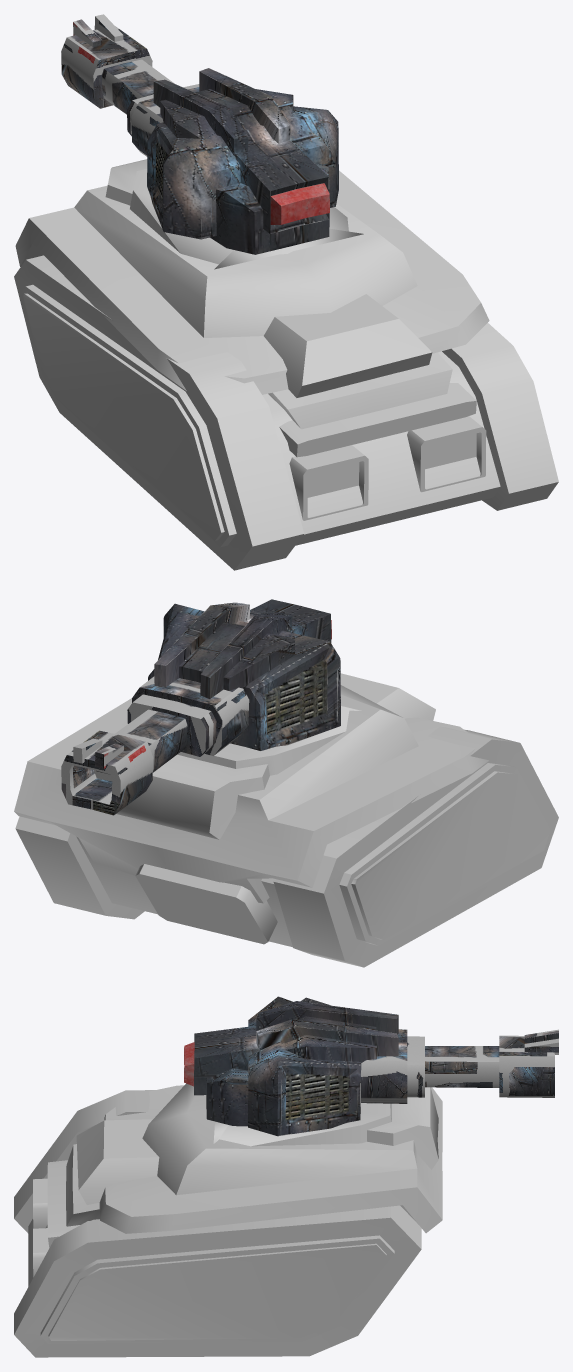
The model's file is Player_Tank4.FBX.
The picture shows the model from 3 angles, top to bottom: view 1: azimuth 30°, elevation 25°; view 2: azimuth 150°, elevation 25°; view 3: azimuth 270°, elevation 25°; orthographic projection. The views are drawn at different scales.
Visible parts, largest first — view 1: Tank_Hull, Left_Track, Turret, Right_Track, Gun_Barrel; view 2: Tank_Hull, Left_Track, Turret, Gun_Barrel, Right_Track; view 3: Right_Track, Tank_Hull, Turret, Gun_Barrel, Left_Track.
Part boxes in pixels (x1,y1,x2,y2): Tank_Hull: [15, 159, 500, 545]; Left_Track: [14, 255, 304, 570]; Turret: [147, 68, 338, 254]; Right_Track: [442, 323, 558, 510]; Gun_Barrel: [61, 14, 199, 156]; Tank_Hull: [14, 673, 488, 947]; Left_Track: [273, 726, 558, 967]; Turret: [148, 599, 340, 750]; Gun_Barrel: [61, 676, 249, 815]; Right_Track: [15, 816, 144, 919]; Right_Track: [14, 1205, 421, 1357]; Tank_Hull: [28, 1083, 442, 1286]; Turret: [184, 996, 398, 1136]; Gun_Barrel: [361, 1029, 558, 1103]; Left_Track: [14, 1090, 155, 1233].
Size of the model in its own units: 1.93 by 1.8 by 3.18.
